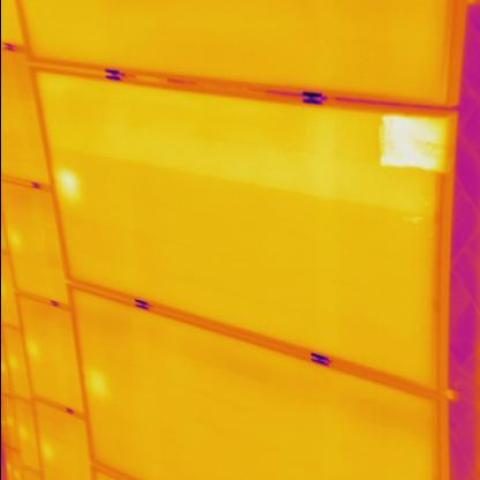fault: (382, 115, 443, 171), (88, 370, 106, 398), (56, 170, 78, 192)
